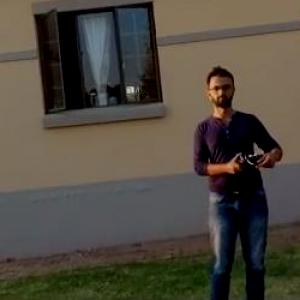follow: (187, 60, 298, 299)
